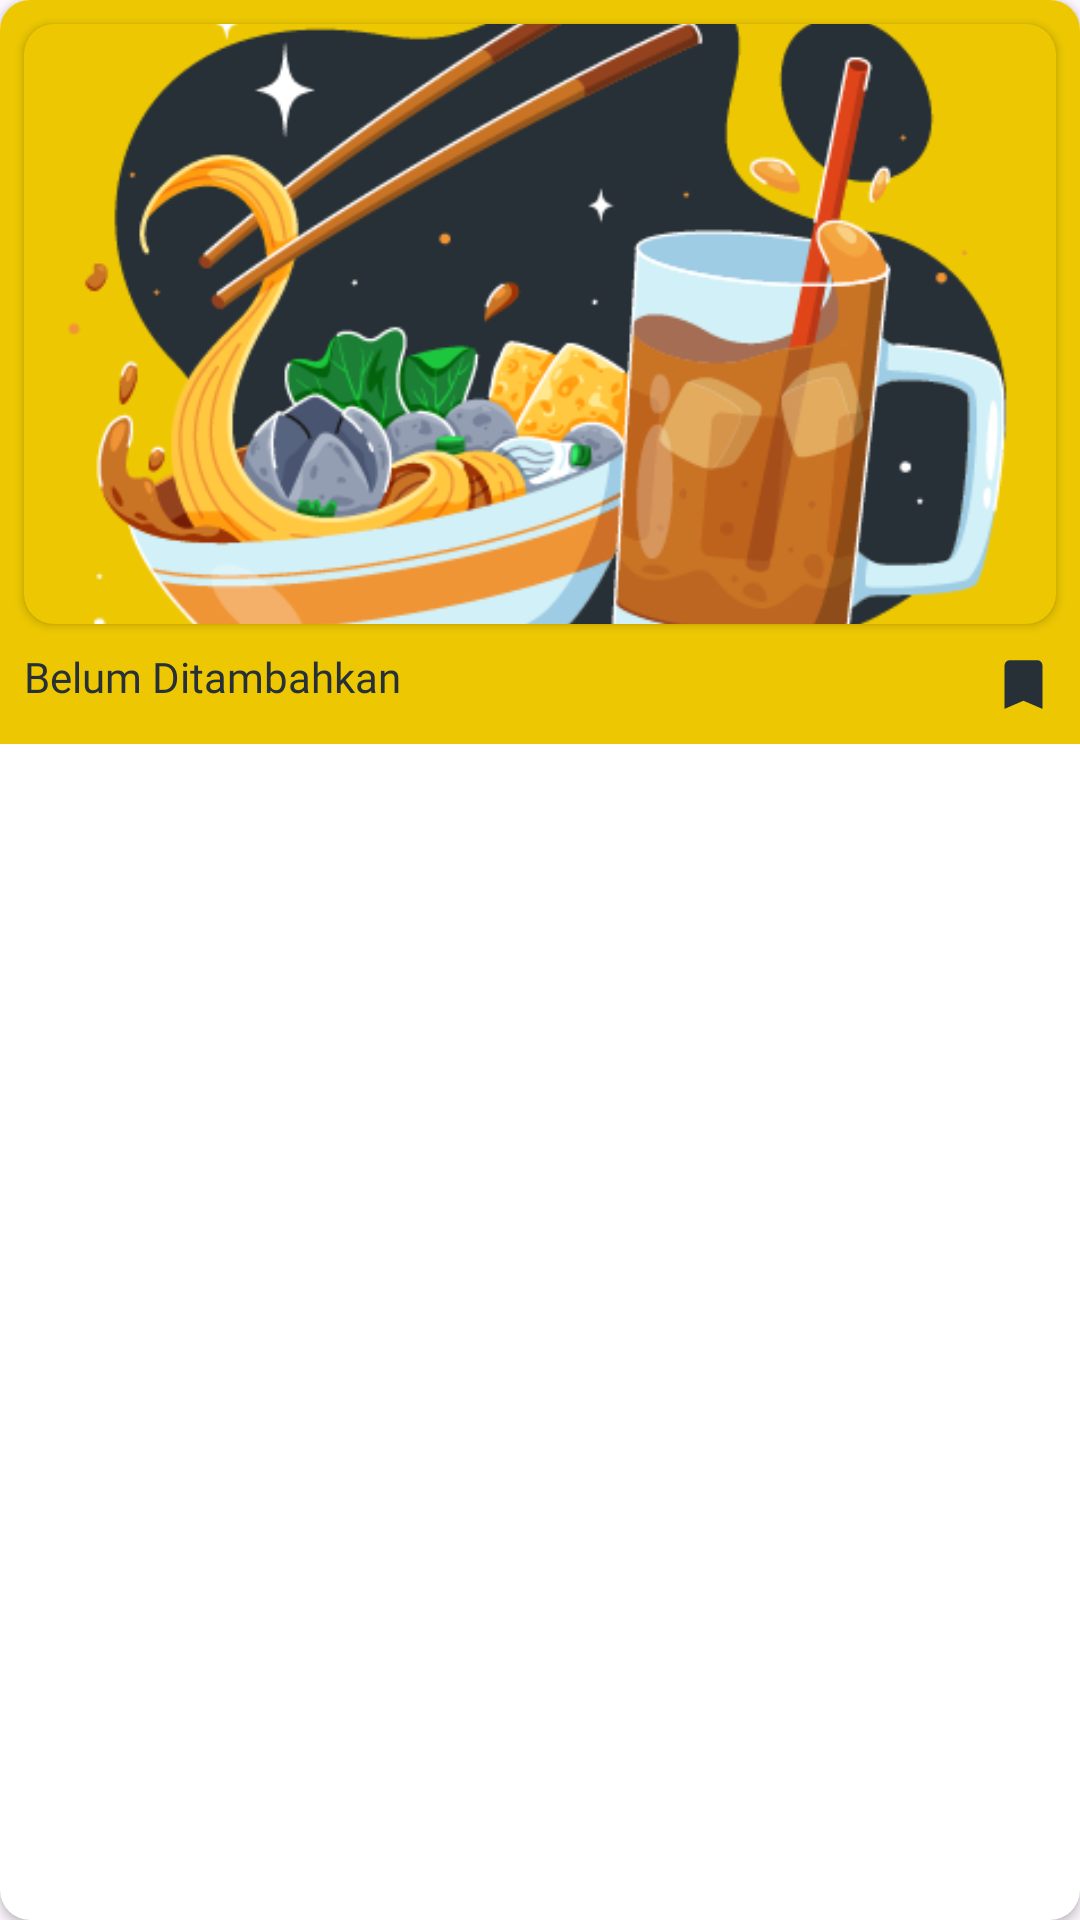

Icon bounding boxes for this 1080 x 1920 phone screenshot, format (x1, y1, x2, y2):
favorit: (1004, 660, 1043, 709)
